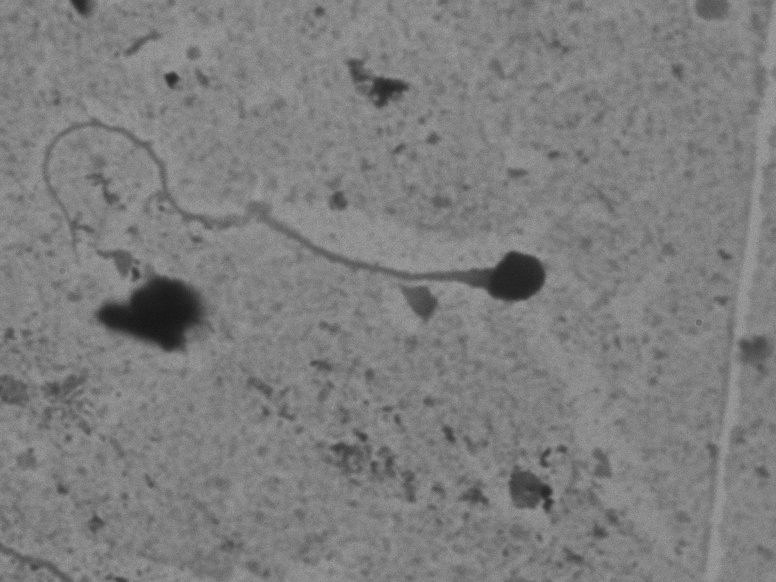Abnormal: (34, 93, 563, 308)
